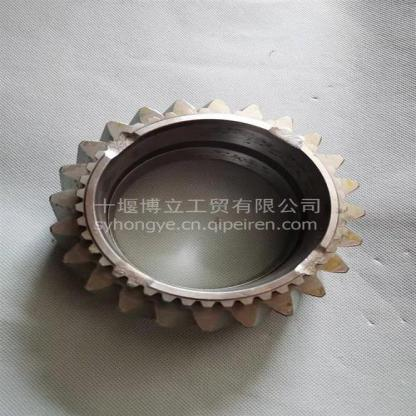FOD: (47, 98, 363, 336)
